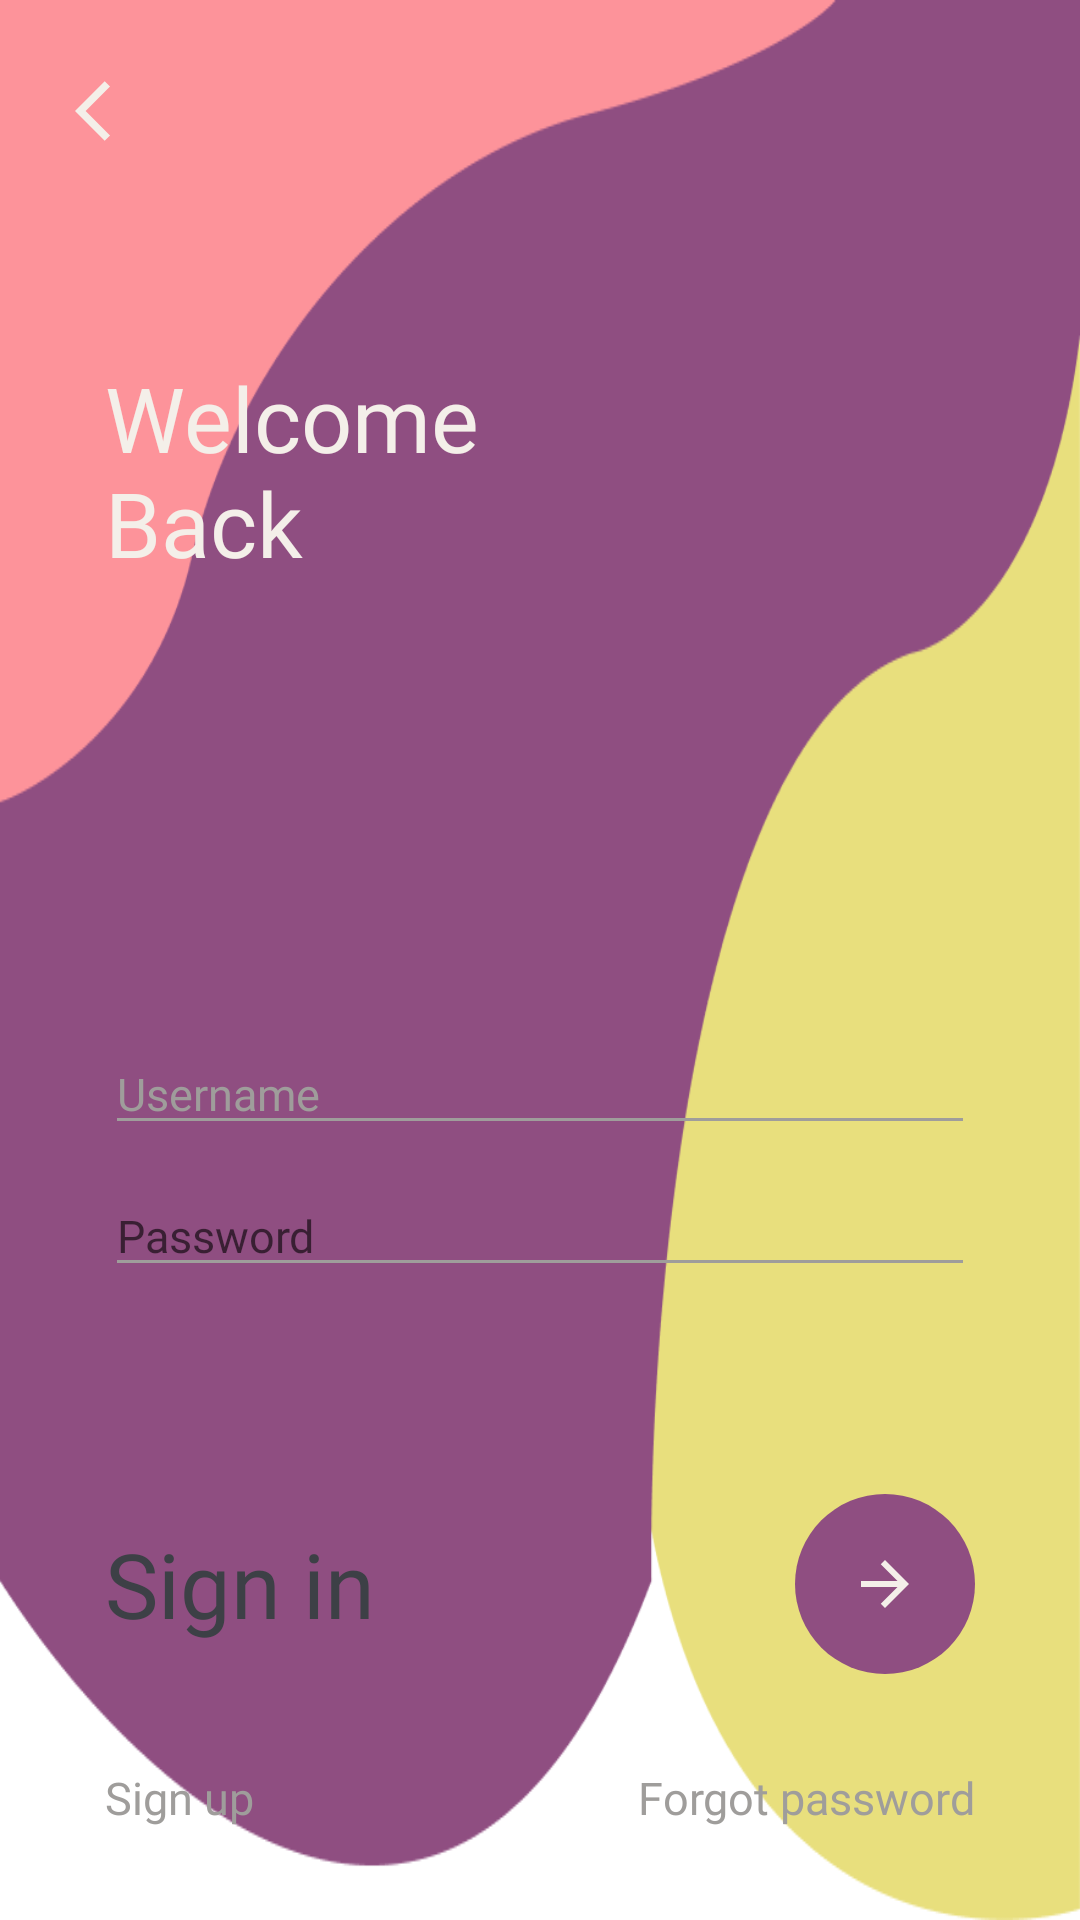

Where to tap for icons on this 1080 x 1920 app screen, as (x,y):
arrow back: (92,111)
arrow forward: (885,1584)
